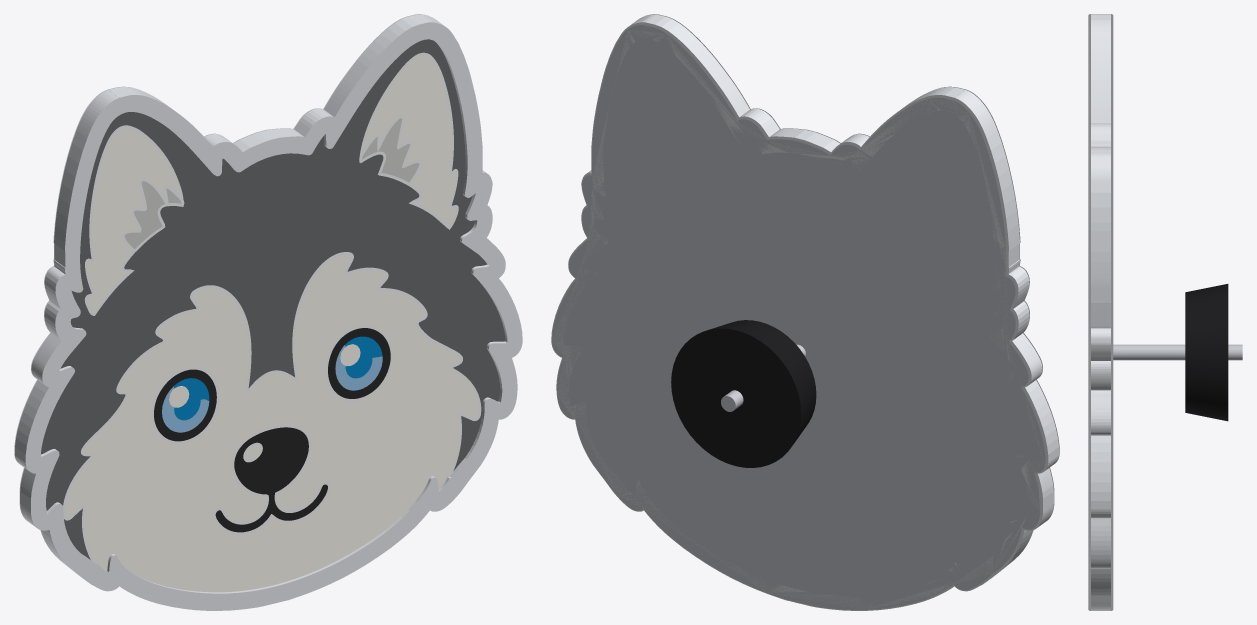
File: husky.glb
The picture shows the model from 3 angles, left to right: view 1: azimuth 30°, elevation 25°; view 2: azimuth 150°, elevation 25°; view 3: azimuth 270°, elevation 25°; orthographic projection. The views are drawn at different scales.
Visible parts, largest first — view 1: enamel_07_st3, enamel_01_st2, silver_border, enamel_04_st3, enamel_02_st3, enamel_08_st0, silver_line_07, silver_line_08, enamel_10_st5, enamel_14_st5, enamel_03_st1, silver_line_04 (+10 smaller); view 2: base_plate, silver_border, rubber_clutch; view 3: silver_border, rubber_clutch, pin_post.
Part boxes in pixels (left/top/right/bottom): enamel_07_st3: left=65, top=255, right=478, bottom=592; enamel_01_st2: left=41, top=39, right=505, bottom=559; silver_border: left=14, top=14, right=522, bottom=610; enamel_04_st3: left=87, top=128, right=179, bottom=312; enamel_02_st3: left=363, top=55, right=455, bottom=225; enamel_08_st0: left=215, top=427, right=327, bottom=532; silver_line_07: left=63, top=252, right=481, bottom=562; silver_line_08: left=213, top=424, right=330, bottom=535; enamel_10_st5: left=154, top=369, right=216, bottom=441; enamel_14_st5: left=328, top=328, right=390, bottom=398; enamel_03_st1: left=362, top=118, right=419, bottom=182; silver_line_04: left=85, top=125, right=183, bottom=315; base_plate: left=552, top=25, right=1045, bottom=609; silver_border: left=551, top=14, right=1059, bottom=610; rubber_clutch: left=671, top=320, right=816, bottom=467; silver_border: left=1088, top=14, right=1113, bottom=610; rubber_clutch: left=1185, top=284, right=1228, bottom=421; pin_post: left=1113, top=344, right=1242, bottom=360.
Bounding box in the file's own units: 0.0367 × 0.0383 × 0.0107.
